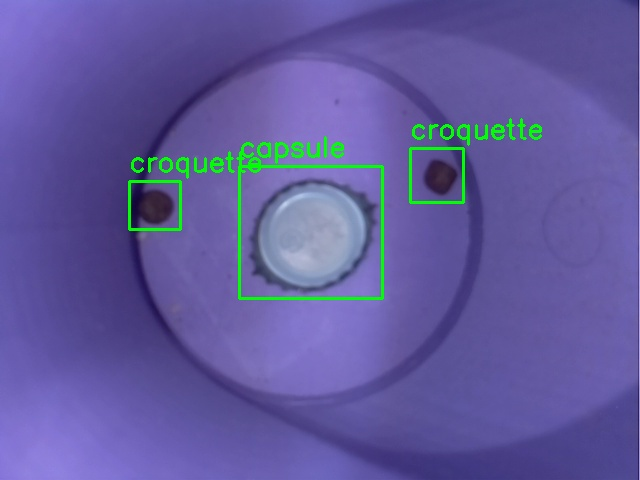capsule: (239, 166, 382, 298)
croquette: (410, 148, 463, 202), (129, 181, 180, 229)
